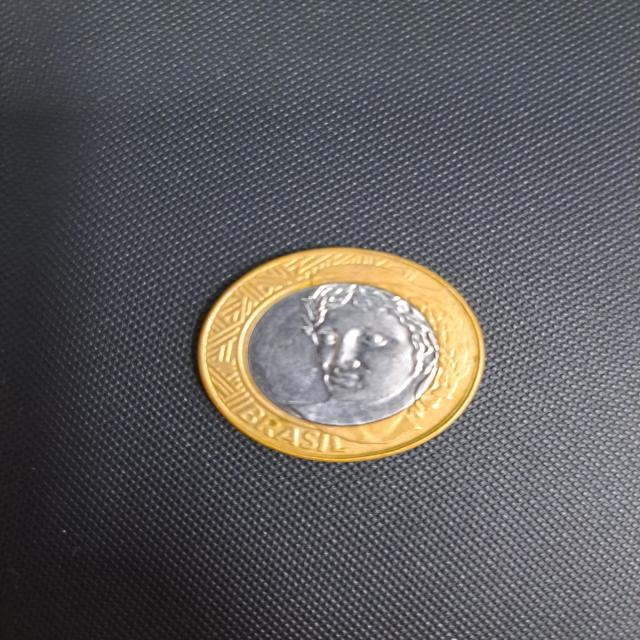1 real: (168, 218, 512, 482)
